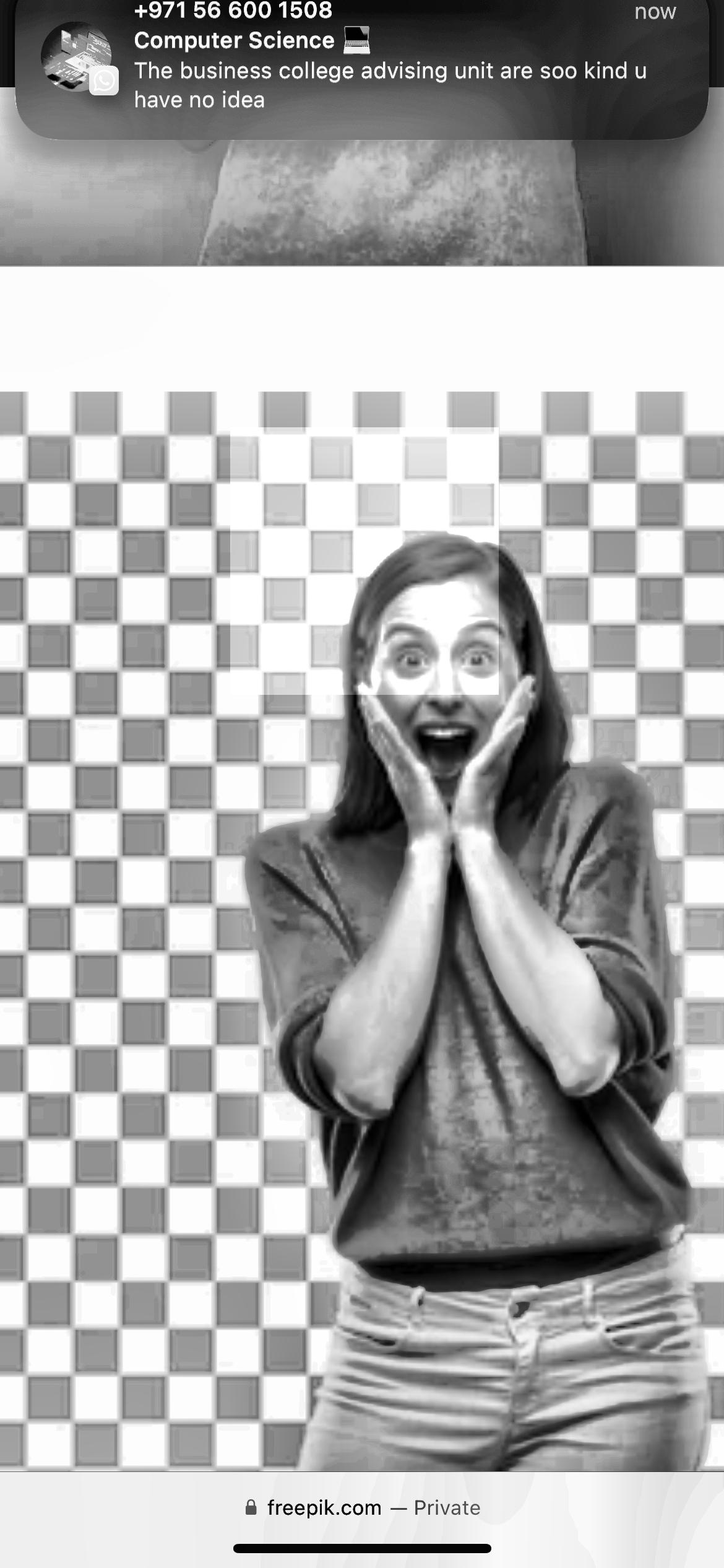surprised: (285, 528, 617, 859)
